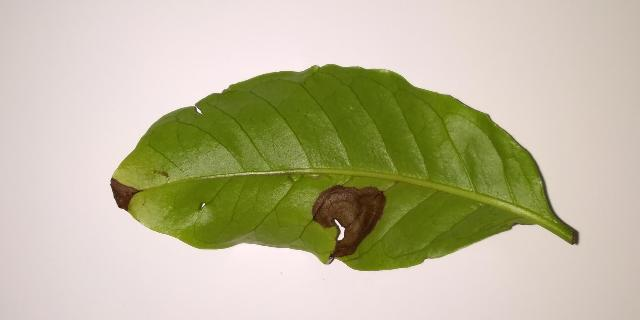rust: (312, 185, 386, 263), (111, 178, 139, 212)
